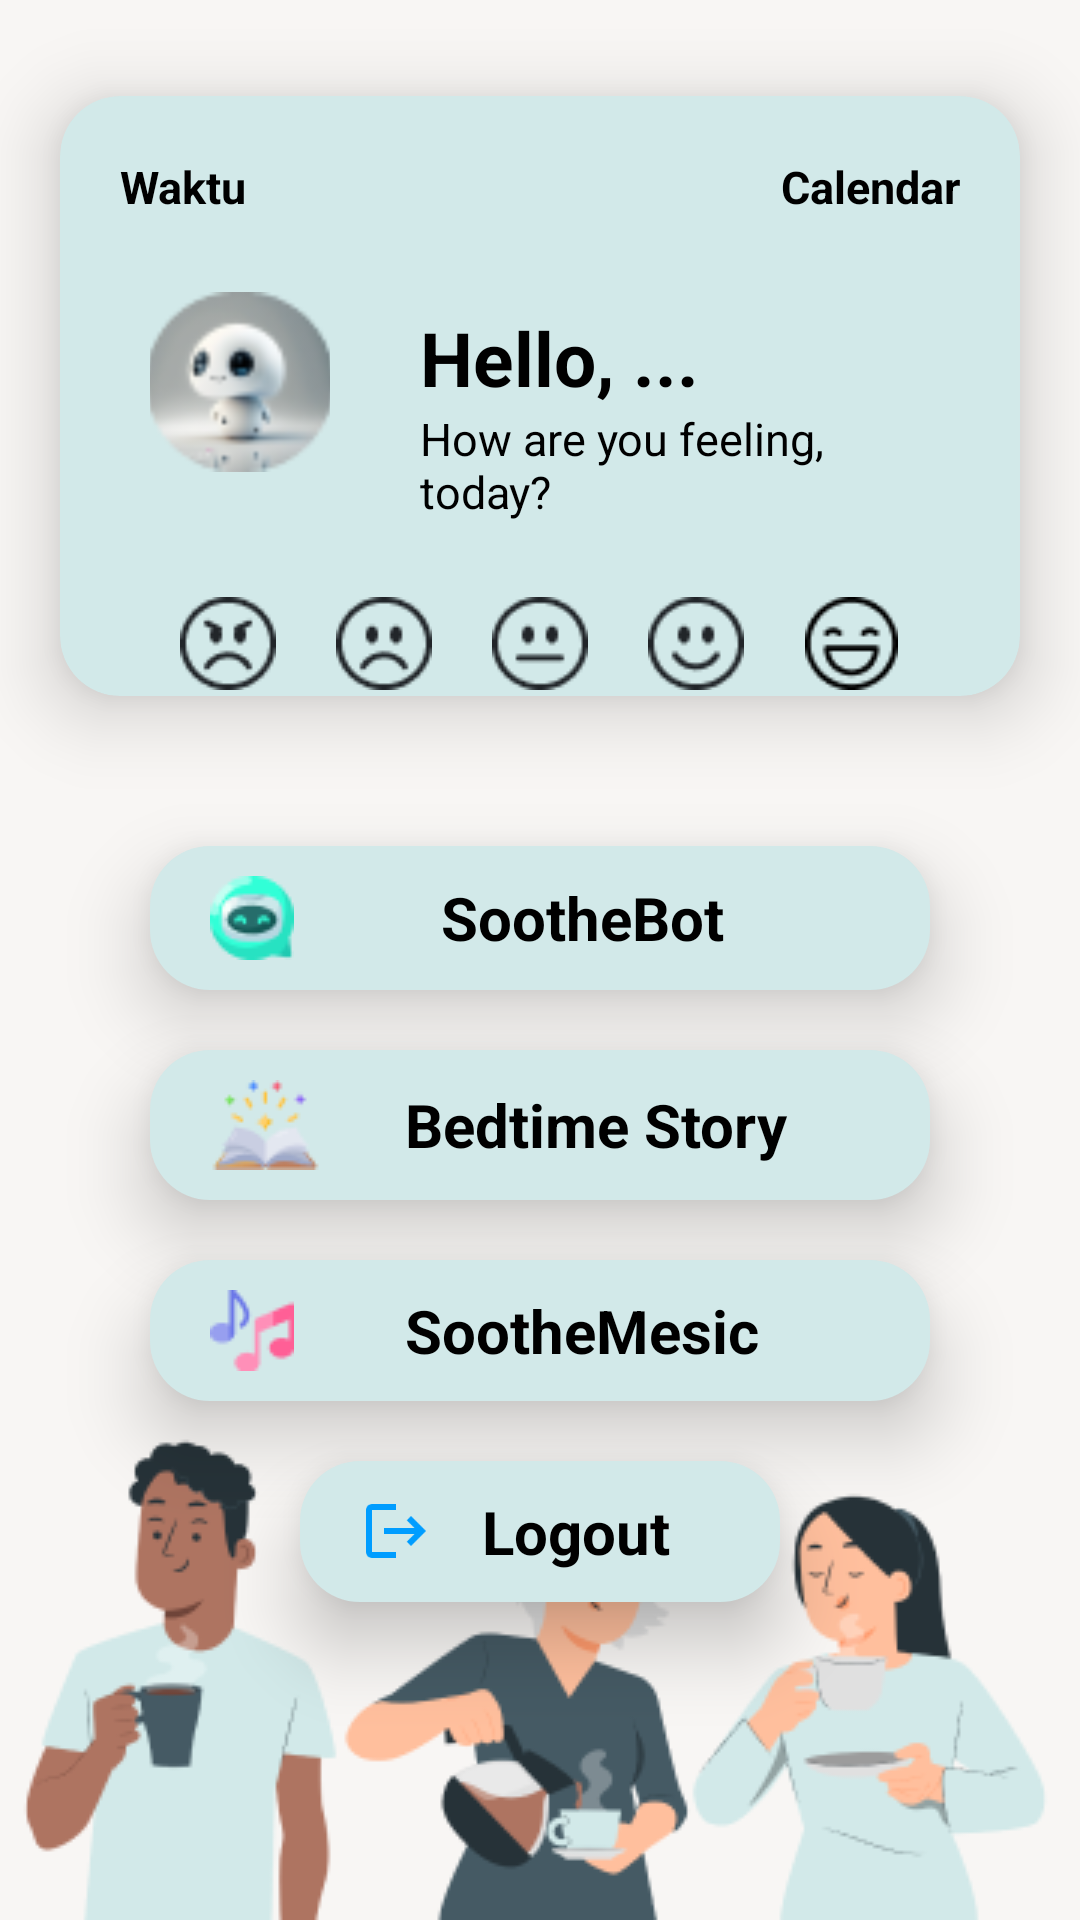

Icons on this 1080*1920 Android screen, each with the point to tap as point (x, y):
Foto Profil: point (240, 382)
